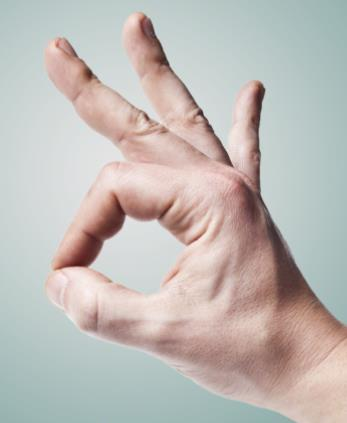left: (40, 11, 280, 384)
